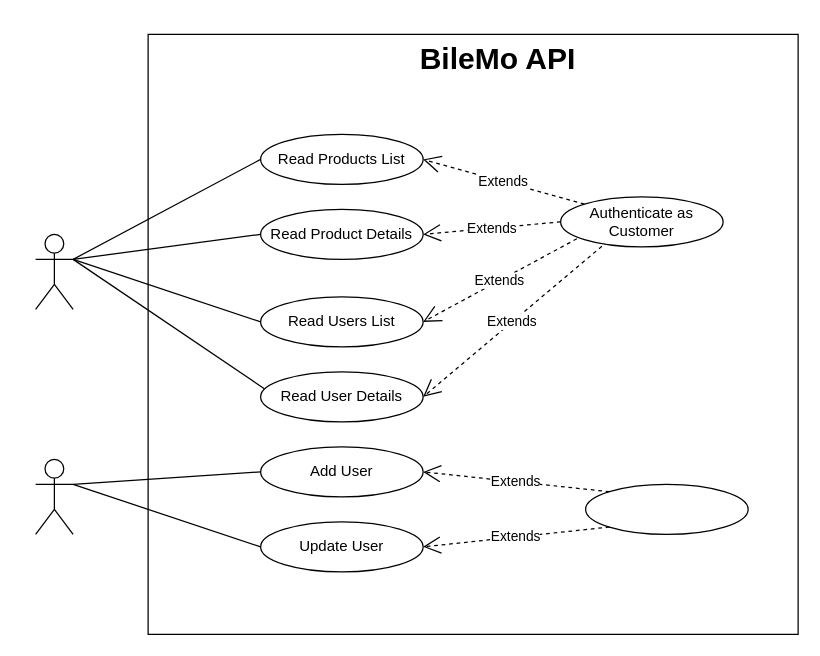
Some shapes in this 820 by 656 pixel diagram are drawn without their labels. The shapes that lost their labels are listed below. From the top down, each one's centre as x and y in pixels, then its label:
At pixel 53 271: "Customer".
At pixel 53 496: "Admin".
At pixel 666 508: "Authenticate as Admin".
